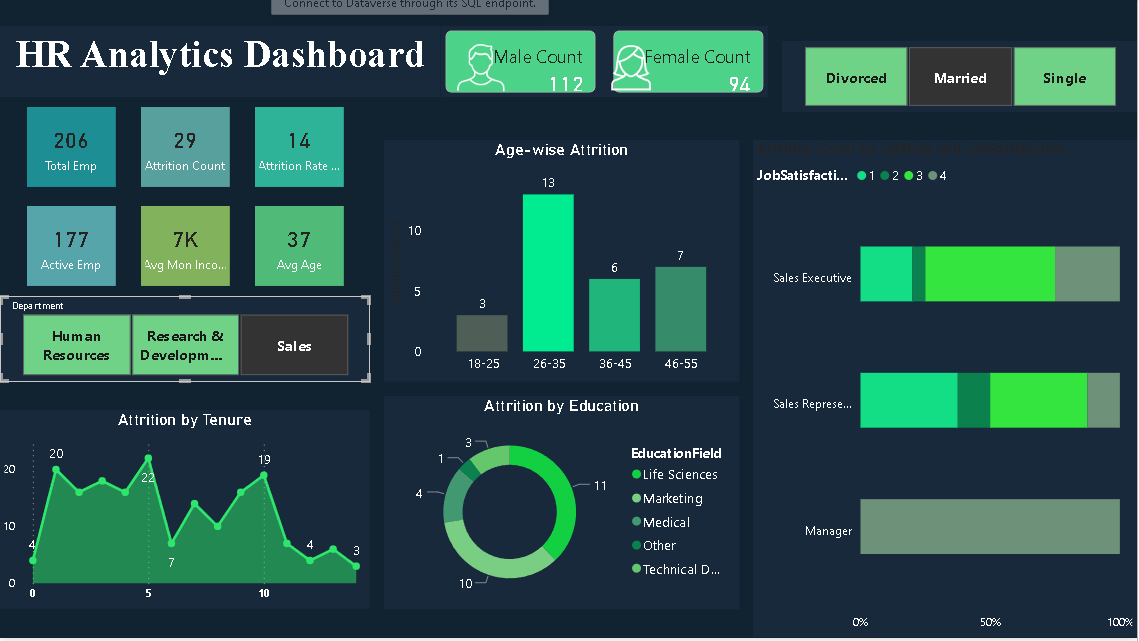

The dashboard page shown, as its layout file describes it:
{"tool":"powerbi","page":{"name":"Page 1","canvas":[1280,720],"ordinal":0},"visuals":[{"type":"card","fields":{"Values":["Measures-.Total Employees"]},"box":[30.7,122.7,100,90],"z":0},{"type":"slicer","fields":{"Values":["HR_Analytics.Department"]},"box":[0,336,416,96],"z":0,"group":"g1"},{"type":"slicer","fields":{"Values":["HR_Analytics.MaritalStatus"]},"box":[880,48,400,80],"z":1000},{"type":"card","fields":{"Values":["Measures-.Attrition Count"]},"box":[158.7,122.7,100,90],"z":2000},{"type":"card","fields":{"Values":["Measures-.Active Employees"]},"box":[30.7,234.7,100,90],"z":3000},{"type":"card","fields":{"Values":["Measures-.Attrition Rate %"]},"box":[286.7,122.7,100,90],"z":4000},{"type":"card","fields":{"Values":["Measures-.Avg Monthly Income"]},"box":[158.7,234.7,100,90],"z":5000},{"type":"areaChart","title":"Attrition by Tenure","fields":{"Y":["CountNonNull(HR_Analytics.Attrition)"],"Category":["HR_Analytics.YearsAtCompany"]},"box":[0,464,416,224],"z":6000},{"type":"donutChart","title":"Attrition by Education","fields":{"Y":["Measures-.Attrition Count"],"Series":["HR_Analytics.EducationField"]},"box":[432,448,400,240],"z":7000},{"type":"clusteredColumnChart","title":"Age-wise Attrition","fields":{"Category":["HR_Analytics.AgeGroup"],"Y":["Measures-.Attrition Count"]},"box":[432,160,400,272],"z":8000},{"type":"hundredPercentStackedBarChart","fields":{"Y":["Measures-.Attrition Count"],"Category":["HR_Analytics.JobRole"],"Series":["HR_Analytics.JobSatisfaction"]},"box":[848,160,432,560],"z":9000},{"type":"card","fields":{"Values":["Measures-.Avg Age"]},"box":[286.7,234.7,100,90],"z":10000},{"type":"cardVisual","fields":{"Data":["Measures-.Male Count","Measures-.Female Count"]},"box":[496,32,368,80],"z":11000,"group":"g2"},{"type":"group","id":"g1","title":"Group 1","box":[0,336,416,96],"z":11000},{"type":"textbox","box":[0,32,496,80],"z":12000},{"type":"image","box":[508.3,45.3,65.2,66.7],"z":12000,"group":"g2"},{"type":"group","id":"g2","title":"Group 2","box":[496,32,368,80],"z":13000},{"type":"image","box":[680,45.3,61.3,66.7],"z":13000,"group":"g2"}]}

Visuals, with their boxes on the page's 1280x720 design canvas (x1, y1, x2, y2). These are canvas units, not pixel positions in the 1139x641 screenshot, which may show the page scaled, cropped or inside an application window:
card - Measures-.Total Employees: (x1=31, y1=123, x2=131, y2=213)
slicer - HR_Analytics.Department: (x1=0, y1=336, x2=416, y2=432)
slicer - HR_Analytics.MaritalStatus: (x1=880, y1=48, x2=1280, y2=128)
card - Measures-.Attrition Count: (x1=159, y1=123, x2=259, y2=213)
card - Measures-.Active Employees: (x1=31, y1=235, x2=131, y2=325)
card - Measures-.Attrition Rate %: (x1=287, y1=123, x2=387, y2=213)
card - Measures-.Avg Monthly Income: (x1=159, y1=235, x2=259, y2=325)
"Attrition by Tenure" areaChart: (x1=0, y1=464, x2=416, y2=688)
"Attrition by Education" donutChart: (x1=432, y1=448, x2=832, y2=688)
"Age-wise Attrition" clusteredColumnChart: (x1=432, y1=160, x2=832, y2=432)
hundredPercentStackedBarChart - Measures-.Attrition Count x HR_Analytics.JobRole: (x1=848, y1=160, x2=1280, y2=720)
card - Measures-.Avg Age: (x1=287, y1=235, x2=387, y2=325)
cardVisual - Measures-.Male Count x Measures-.Female Count: (x1=496, y1=32, x2=864, y2=112)
"Group 1" group: (x1=0, y1=336, x2=416, y2=432)
textbox: (x1=0, y1=32, x2=496, y2=112)
image: (x1=508, y1=45, x2=574, y2=112)
"Group 2" group: (x1=496, y1=32, x2=864, y2=112)
image: (x1=680, y1=45, x2=741, y2=112)
